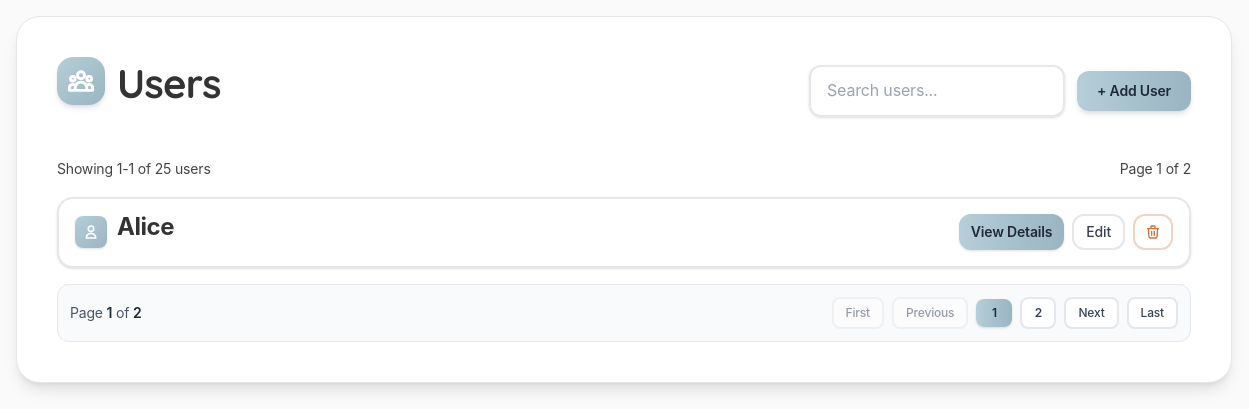
Test case: UsersPage › fetches next page when Next button is clicked
The image size is (1249, 409).
Check: the heading "Alice" is shown, box [117,211,174,242]
Click the button "Next" at (1092, 313), box [1064,297,1119,329]
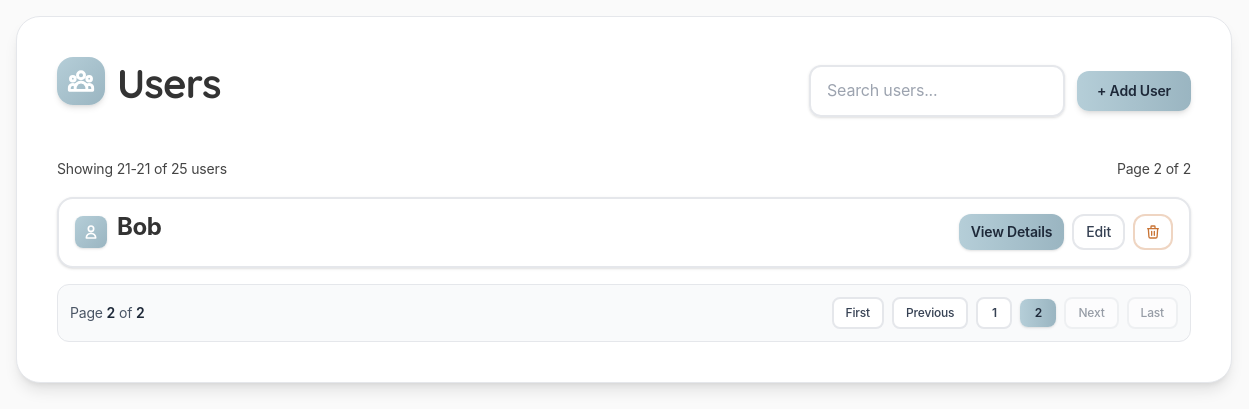
Check: the heading "Bob" is shown, box [117,211,161,242]
Check: the text "Page 2 of 2" is shown, box [1117,157,1191,181]
